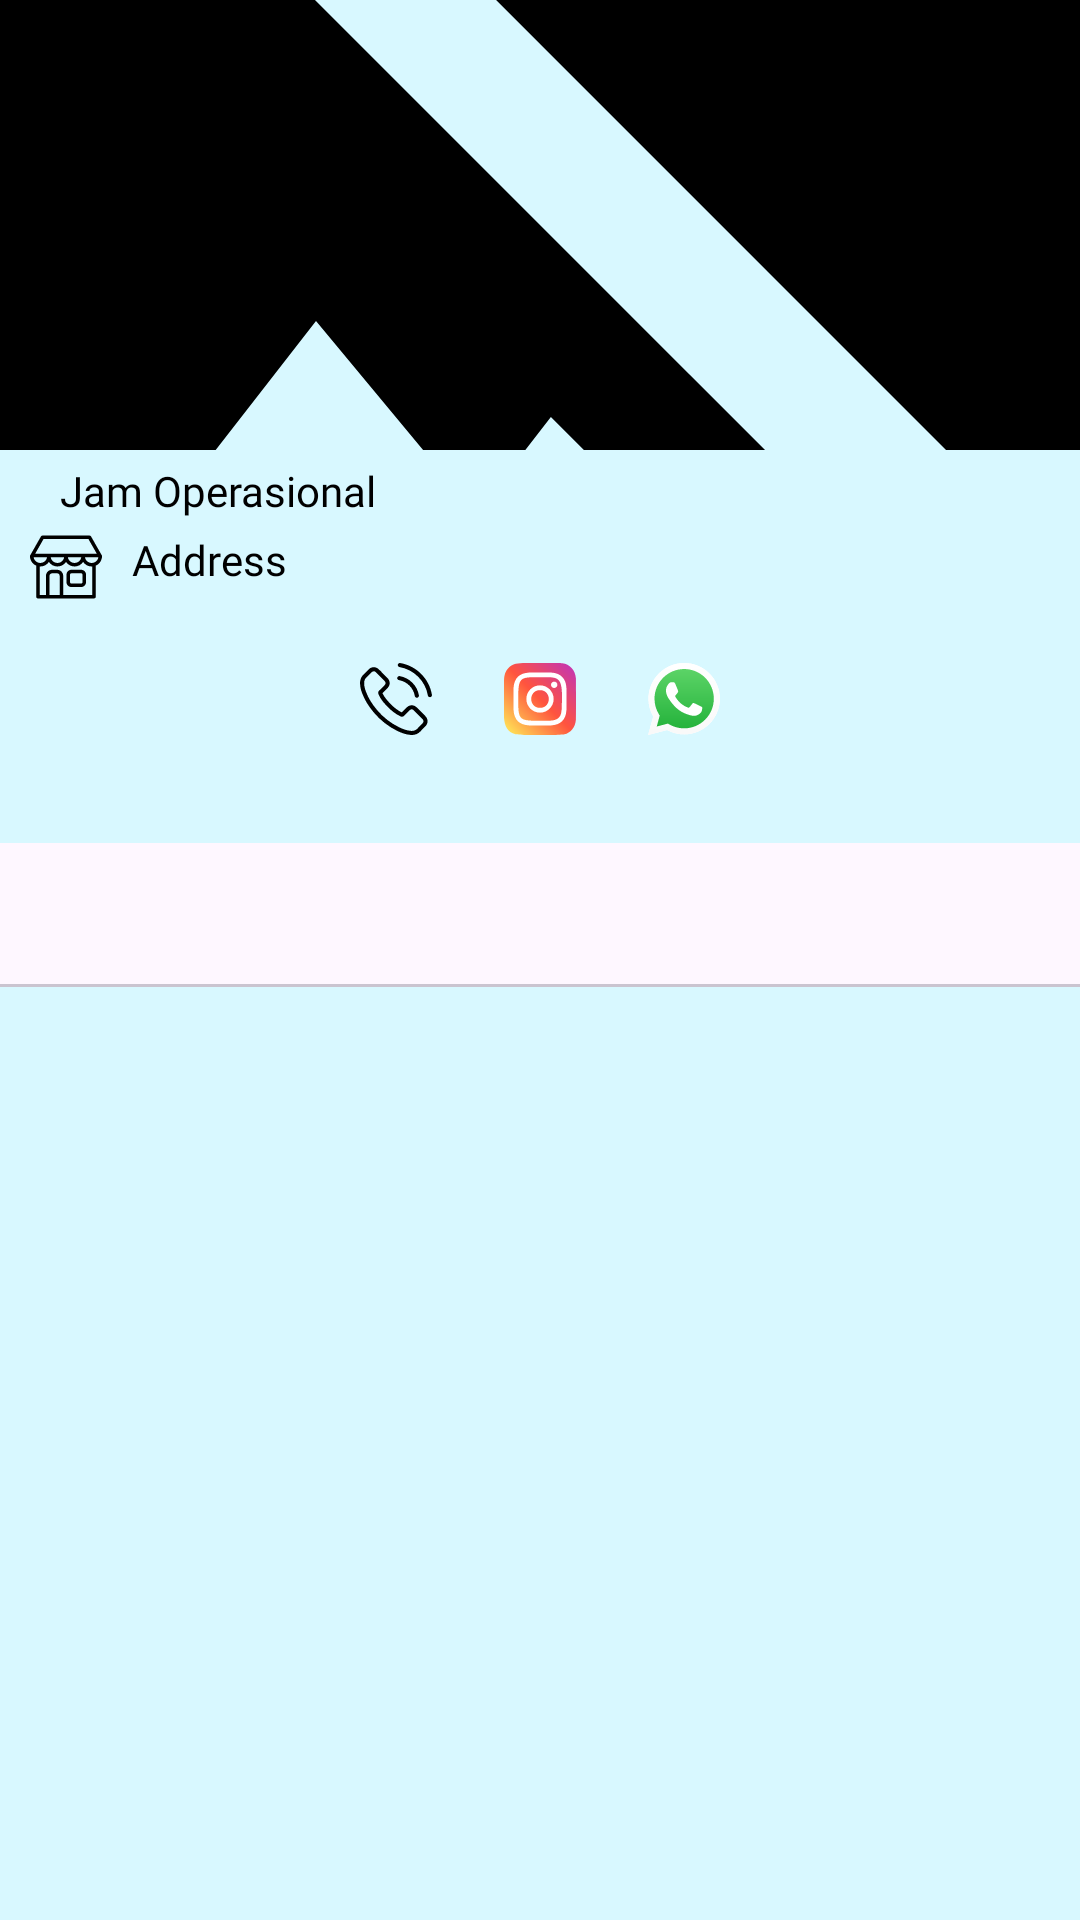

Where icons sit on this 1080×1920 app screen, as (x1, y1, x2, y2):
phone: (360, 663, 432, 735)
shop: (30, 535, 102, 599)
